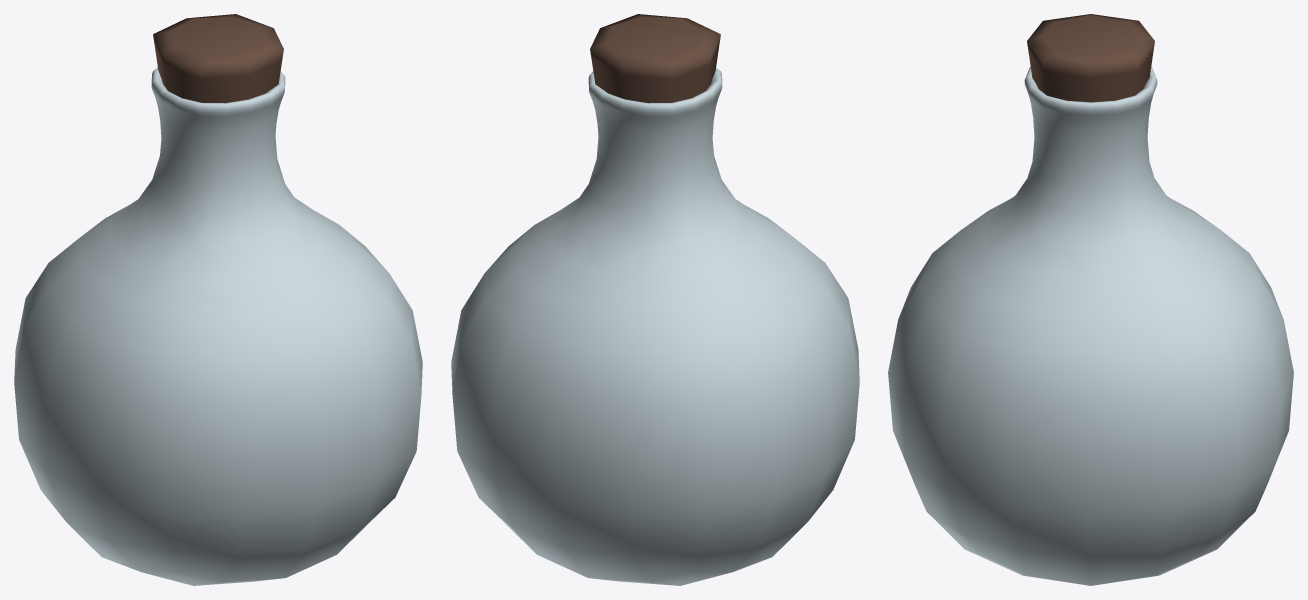
File: rpg_potion1_empty.glb
The picture shows the model from 3 angles, left to right: view 1: azimuth 30°, elevation 25°; view 2: azimuth 150°, elevation 25°; view 3: azimuth 270°, elevation 25°; orthographic projection.
Visible parts, largest first — view 1: Potion1_Empty; view 2: Potion1_Empty; view 3: Potion1_Empty.
Boxes of the visible parts, x1,y1,x2,y2 form: Potion1_Empty: (14, 14, 422, 585); Potion1_Empty: (451, 14, 859, 585); Potion1_Empty: (888, 14, 1293, 585).
Bounding box in the file's own units: 0.6685 × 0.9629 × 0.6685.
